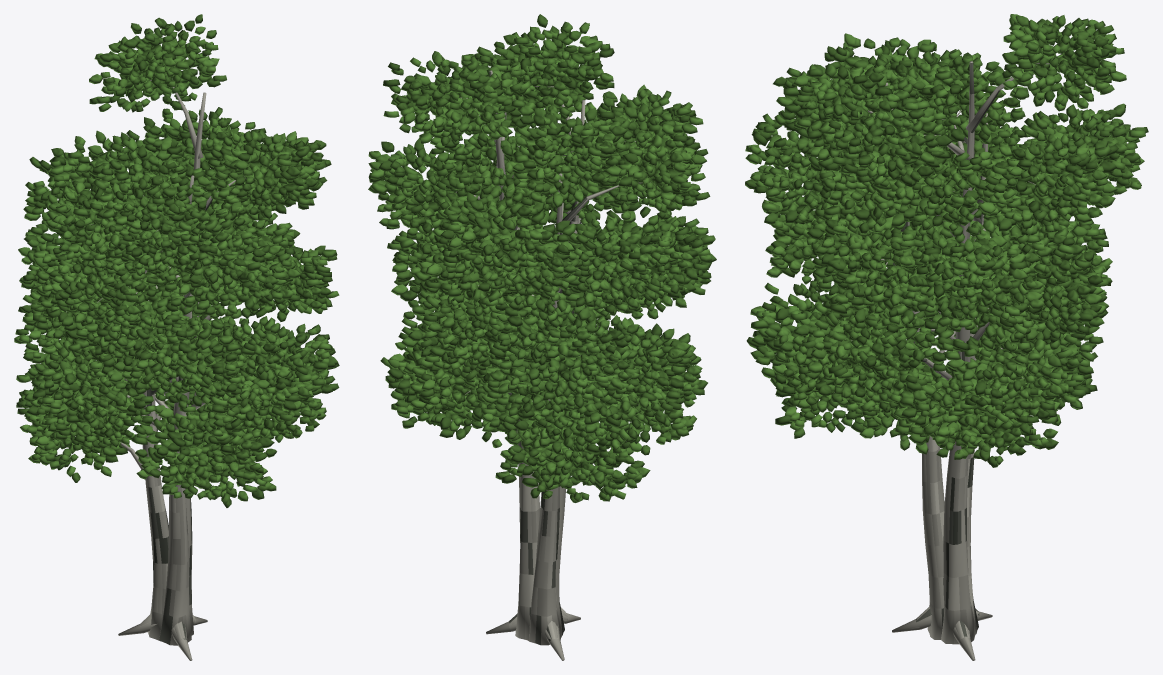
Rendered from forest-alder-1.glb.
The picture shows the model from 3 angles, left to right: view 1: azimuth 30°, elevation 25°; view 2: azimuth 150°, elevation 25°; view 3: azimuth 270°, elevation 25°; orthographic projection. The views are drawn at different scales.
Parts seen in each view (by area): view 1: forest-alder-1/1, forest-alder-1/0; view 2: forest-alder-1/1, forest-alder-1/0; view 3: forest-alder-1/1, forest-alder-1/0.
Boxes of the visible parts, bbox=[...] form: forest-alder-1/1: bbox=[14, 14, 339, 507]; forest-alder-1/0: bbox=[90, 80, 270, 660]; forest-alder-1/1: bbox=[368, 14, 716, 502]; forest-alder-1/0: bbox=[455, 70, 650, 660]; forest-alder-1/1: bbox=[745, 14, 1148, 467]; forest-alder-1/0: bbox=[808, 61, 1049, 660].
Bounding box in the file's own units: 4.76 × 9.33 × 5.38.
